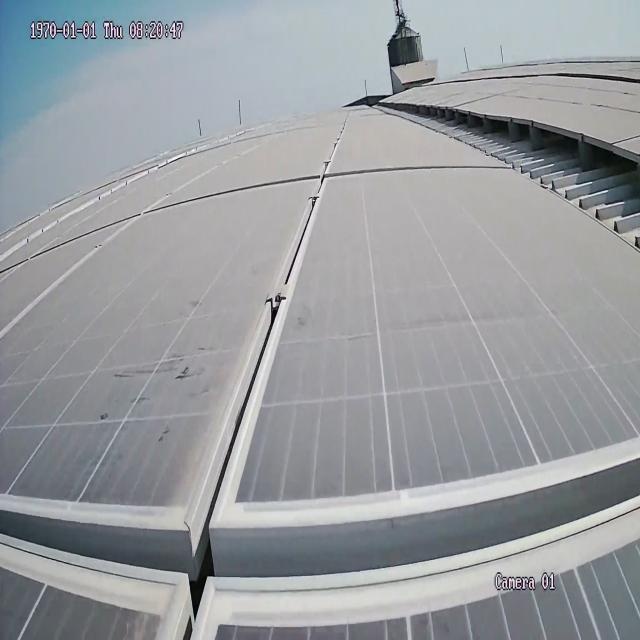interior panel: (0, 118, 640, 640)
outher panel: (358, 99, 640, 270)
